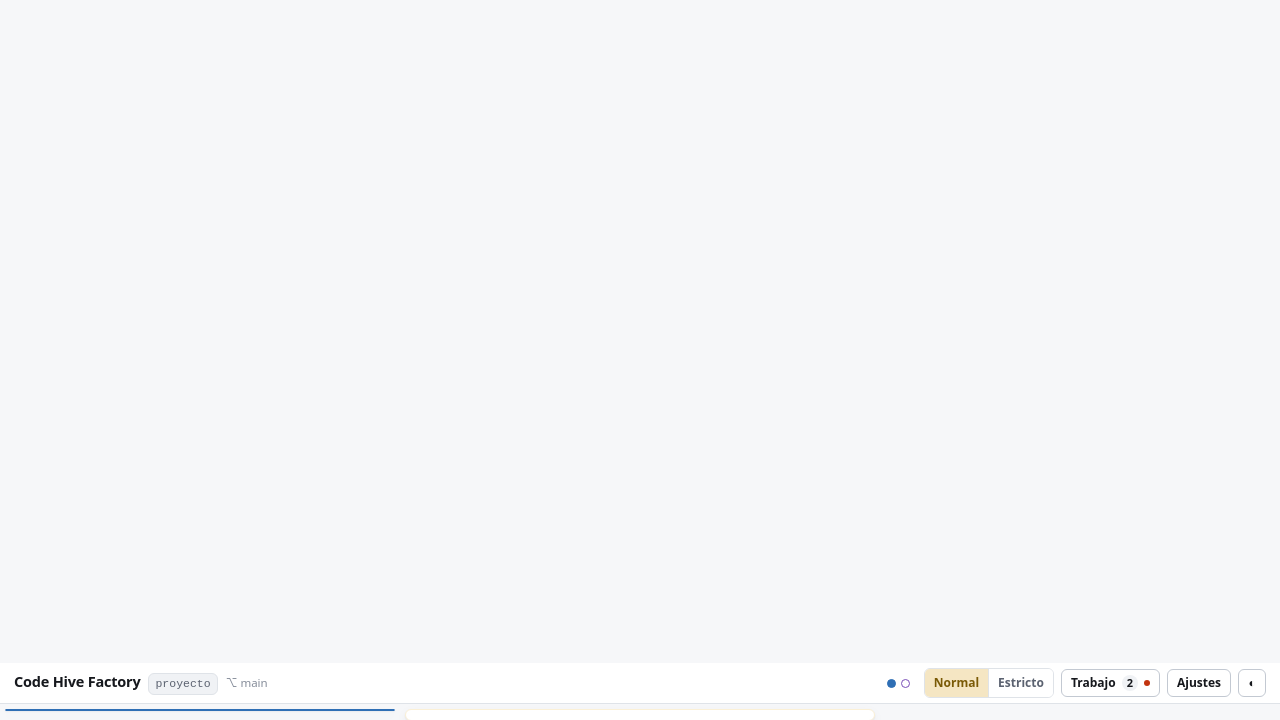
it: consumo de la suscripción › no se muestra nada mientras el motor no haya informado
This screenshot has width=1280, height=720.
(page scrolled)
Click the button with aria-label "Ver el trabajo del proyecto". click: point(1110, 683)
box: [1061,669,1160,697]
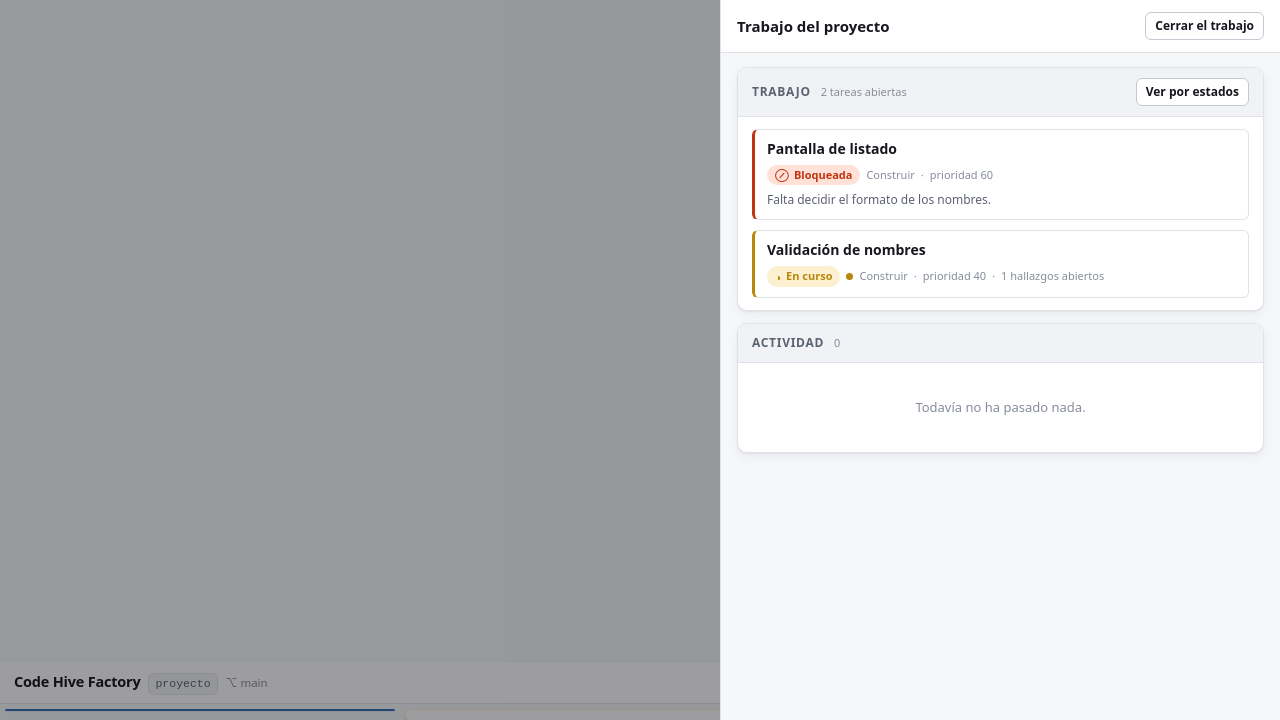
Now the element with class "cajon" is shown, box [720,0,1279,719]
